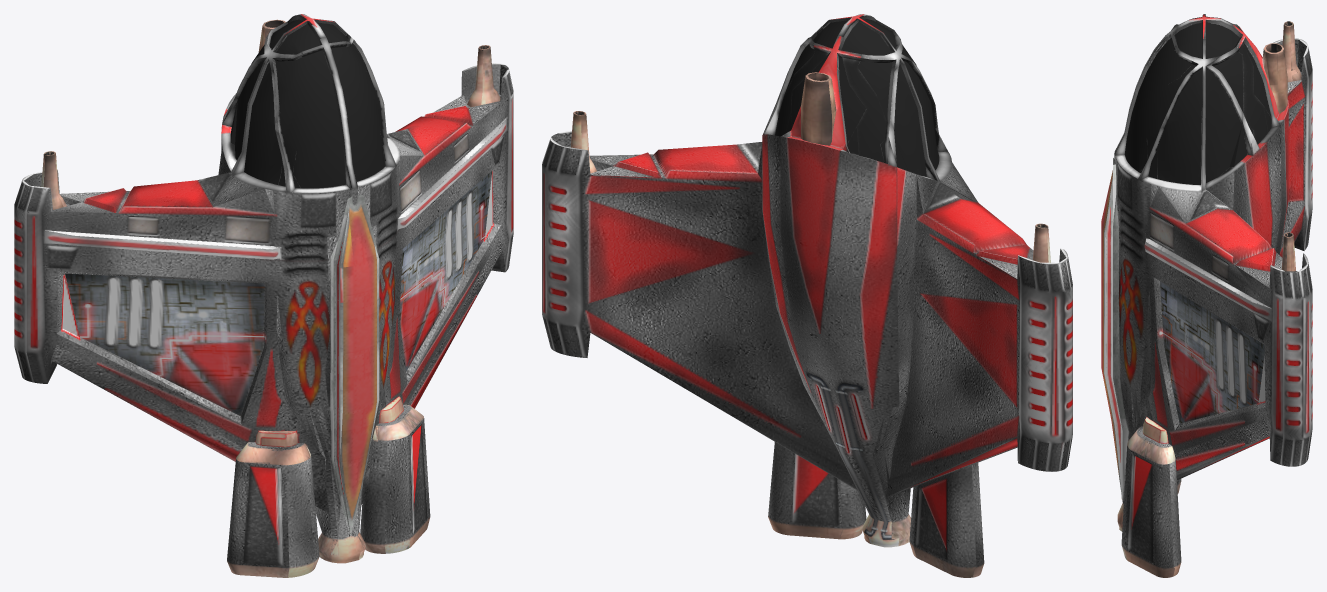
Rendered from ship2.fbx.
3 views of the same model, side by side, from view 1: azimuth 30°, elevation 25°; view 2: azimuth 150°, elevation 25°; view 3: azimuth 270°, elevation 25° (orthographic). The views are drawn at different scales.
Visible parts, largest first — view 1: polySurface5; view 2: polySurface5; view 3: polySurface5.
Part boxes in pixels (box(x1,y1,x2,y2)): polySurface5: box(14, 14, 513, 577); polySurface5: box(542, 14, 1072, 577); polySurface5: box(1101, 14, 1312, 577).
Bounding box in the file's own units: 39.03 × 14.49 × 38.9.
1 material, 1 textured.
